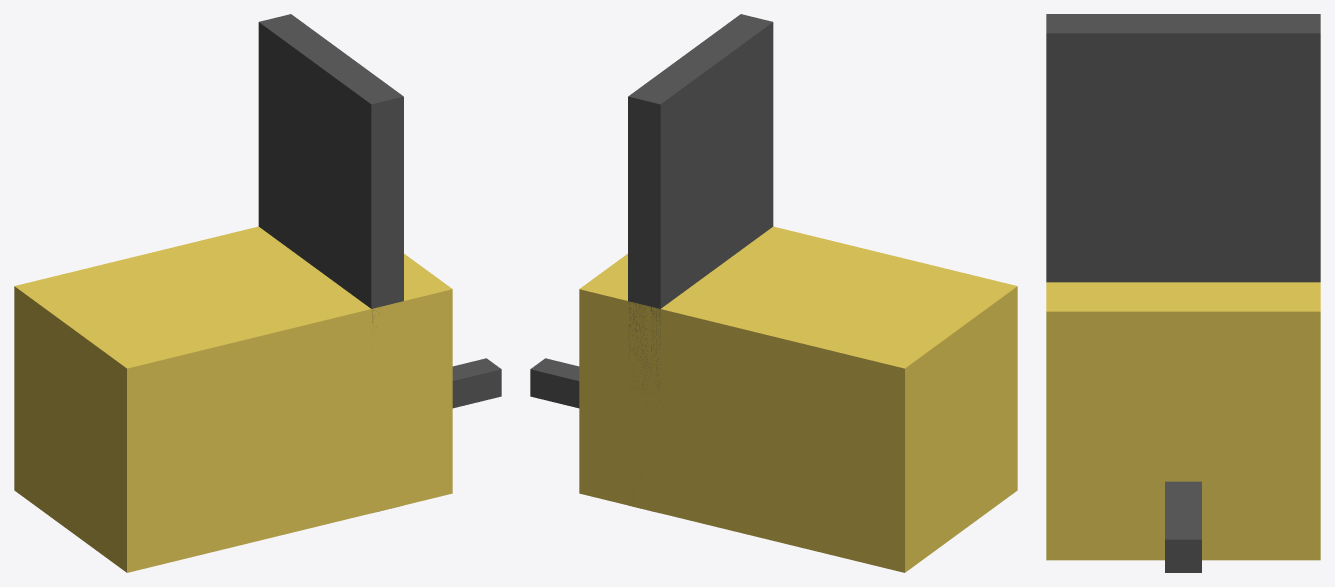
File: forklift.glb
3 views of the same model, side by side, from view 1: azimuth 30°, elevation 25°; view 2: azimuth 150°, elevation 25°; view 3: azimuth 270°, elevation 25° (orthographic). The views are drawn at different scales.
Visible parts, largest first — view 1: forkbody, fork mast, forks; view 2: forkbody, fork mast, forks; view 3: fork mast, forkbody, forks.
Part boxes in pixels (x1,y1,x2,y2): forkbody: [14, 226, 452, 572]; fork mast: [258, 14, 403, 511]; forks: [452, 358, 501, 408]; forkbody: [579, 226, 1017, 572]; fork mast: [628, 14, 773, 511]; forks: [530, 358, 579, 408]; fork mast: [1046, 14, 1320, 282]; forkbody: [1046, 282, 1320, 560]; forks: [1165, 481, 1201, 572].
Bounding box in the file's own units: 2.6 × 2.4 × 1.2.
